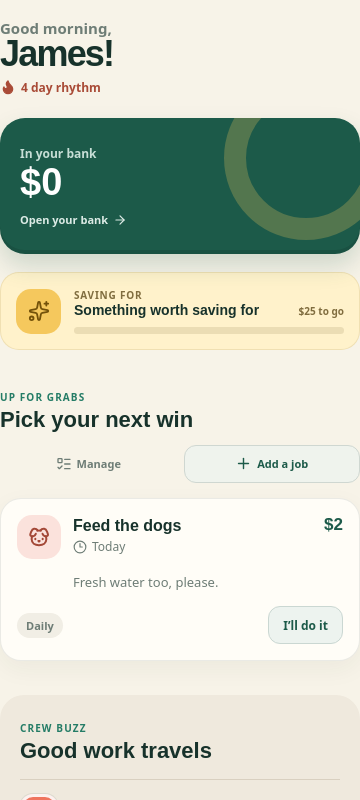
Test case: AppShell mobile navigation › keeps manager job controls usable on a narrow phone
What coordinates should you click on to do the following:
click the button "Manage"
I would click on:
 (89, 464)
Its box is [0,445,177,483].
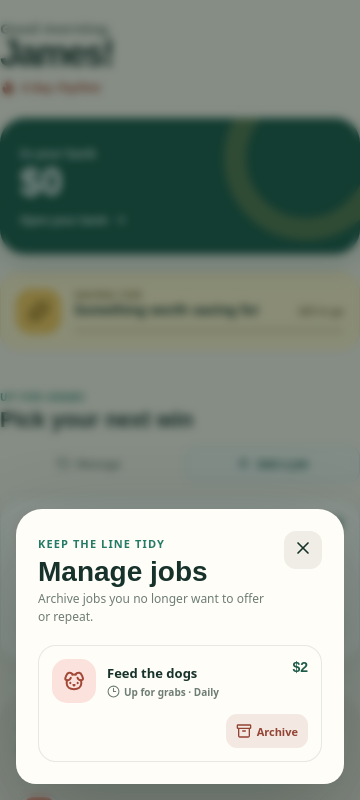
Expected: the text "Manage jobs" is shown, [38,556,208,587]
